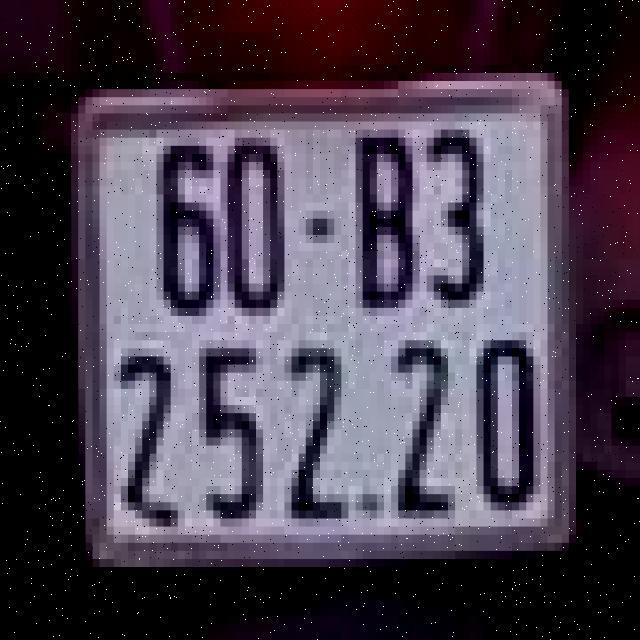0: (462, 332, 548, 519), (228, 126, 292, 320)
2: (110, 344, 188, 539), (384, 336, 462, 531), (278, 336, 348, 531)
3: (426, 113, 491, 316)
5: (192, 328, 277, 539)
6: (153, 134, 224, 328)
B: (345, 121, 423, 316)
